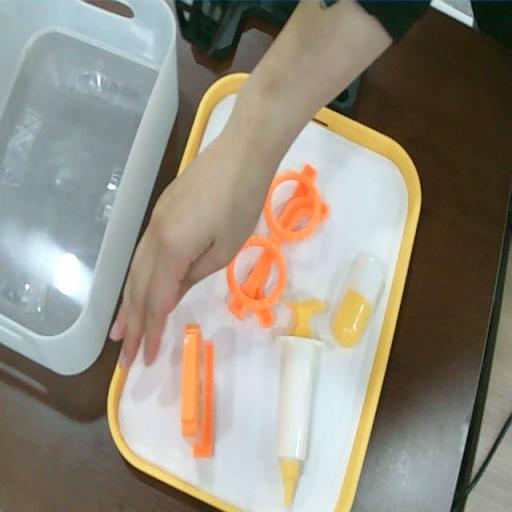hospital: (108, 125, 274, 371)
